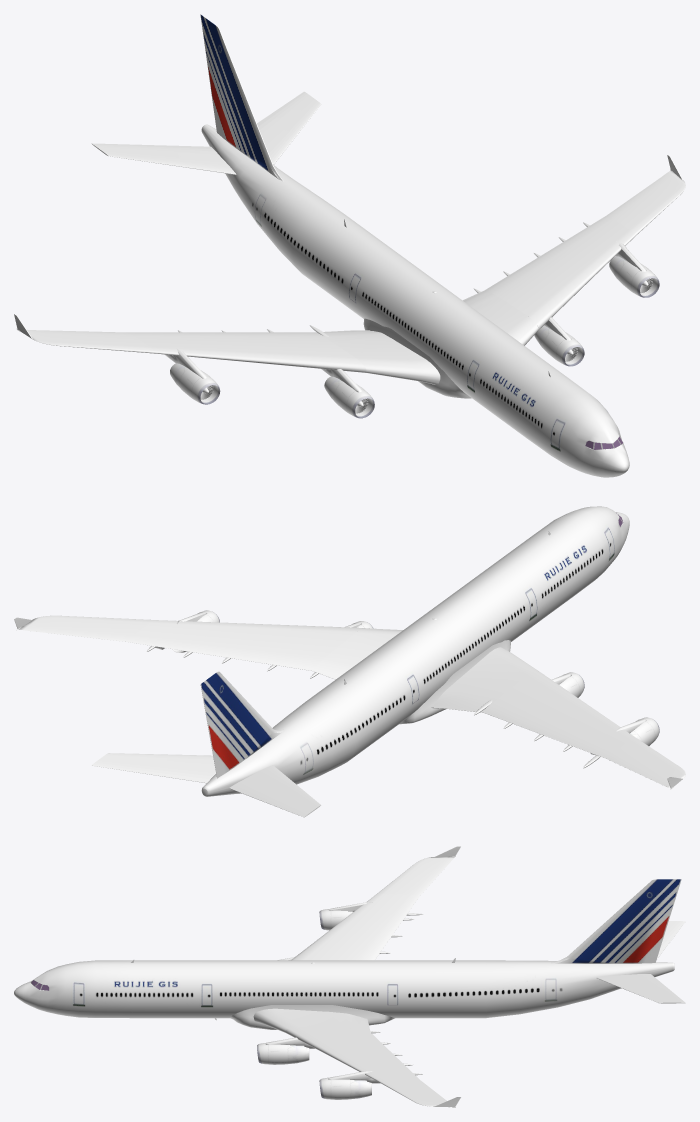
3 renders of one model, top to bottom at view 1: azimuth 30°, elevation 25°; view 2: azimuth 150°, elevation 25°; view 3: azimuth 270°, elevation 25°, orthographic. The views are drawn at different scales.
Parts seen in each view (by area): view 1: A340fuselage; view 2: A340fuselage; view 3: A340fuselage.
Boxes of the visible parts, <box> form: A340fuselage: <box>14,14,685,477</box>; A340fuselage: <box>14,506,685,817</box>; A340fuselage: <box>14,846,685,1107</box>.
Size of the model in its own units: 56.52 by 15.18 by 63.91.
Materials: 8 (8 with a texture image).
